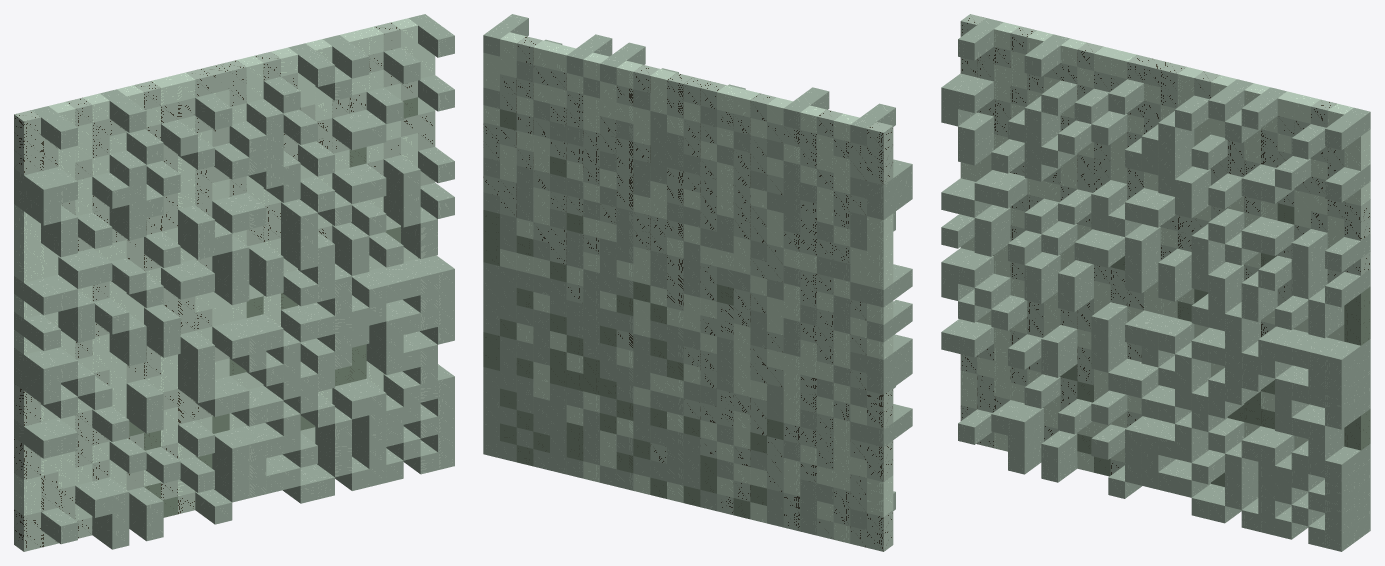
3 renders of one model, left to right at view 1: azimuth 30°, elevation 25°; view 2: azimuth 150°, elevation 25°; view 3: azimuth 330°, elevation 25°, orthographic. The views are drawn at different scales.
Size of the model in its own units: 2.4 by 2.4 by 0.3.
